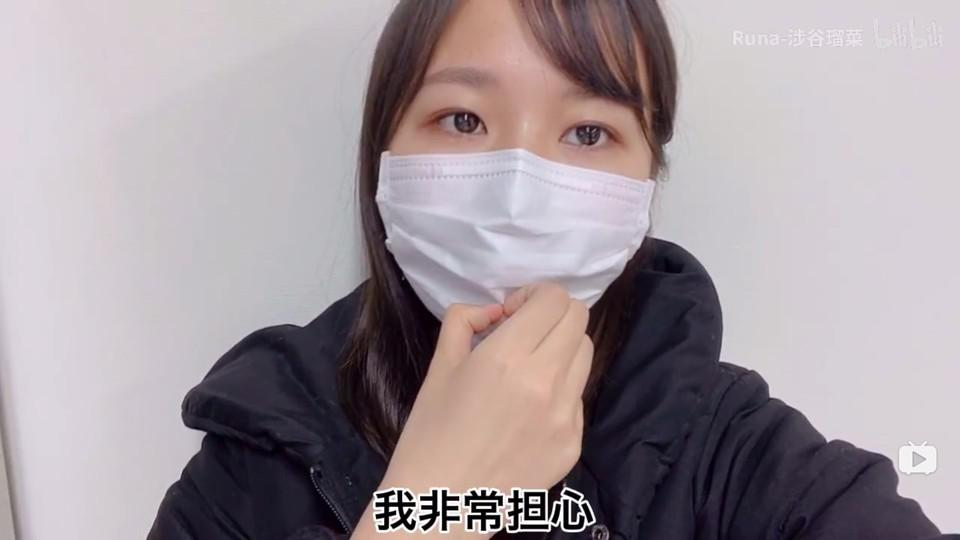OK: (381, 46, 656, 359)
